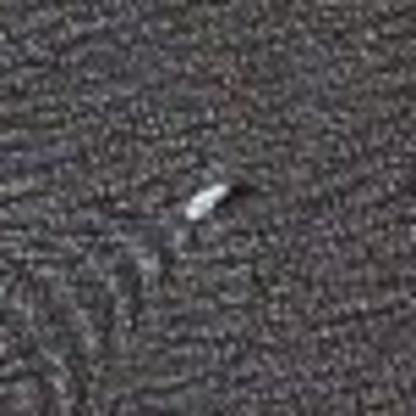ship: (176, 176, 235, 224)
